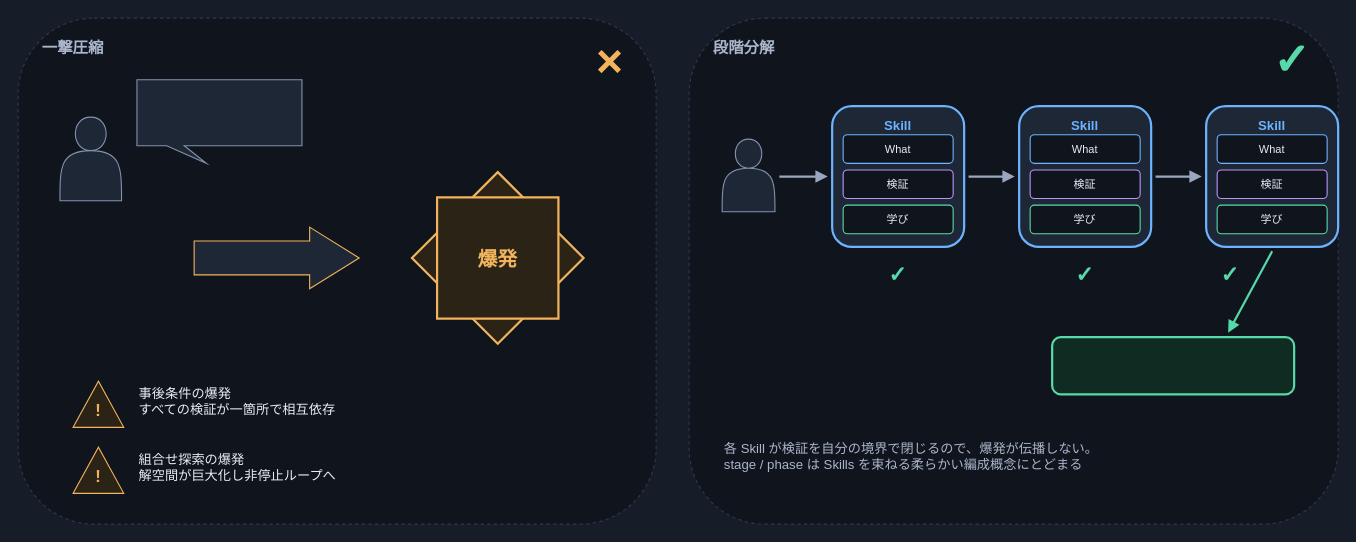
The diagram is 1356 pixels wide and 542 high, and some of its shapes have lost their labels. Each missing label, with the centre of its shape:
"1 発" goes at [276,257].
"このアプリを 作って" goes at [219,121].
"検証済みの成果物" goes at [1172,365].
